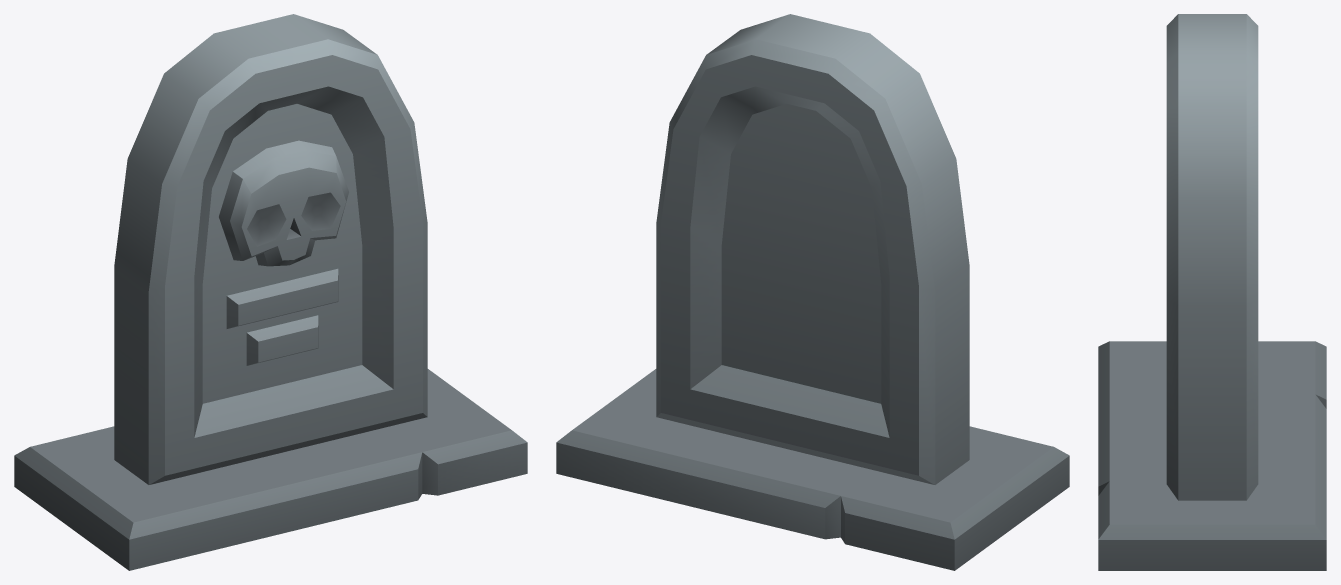
Rendered from Grave A.glb.
3 renders of one model, left to right at view 1: azimuth 30°, elevation 25°; view 2: azimuth 150°, elevation 25°; view 3: azimuth 270°, elevation 25°, orthographic.
Visible parts, largest first — view 1: grave_A; view 2: grave_A; view 3: grave_A.
Boxes of the visible parts, bbox=[...] form: grave_A: bbox=[14, 14, 527, 570]; grave_A: bbox=[556, 14, 1069, 570]; grave_A: bbox=[1098, 14, 1326, 570].
Size of the model in its own units: 2 by 2.13 by 1.
1 material, 1 textured.
